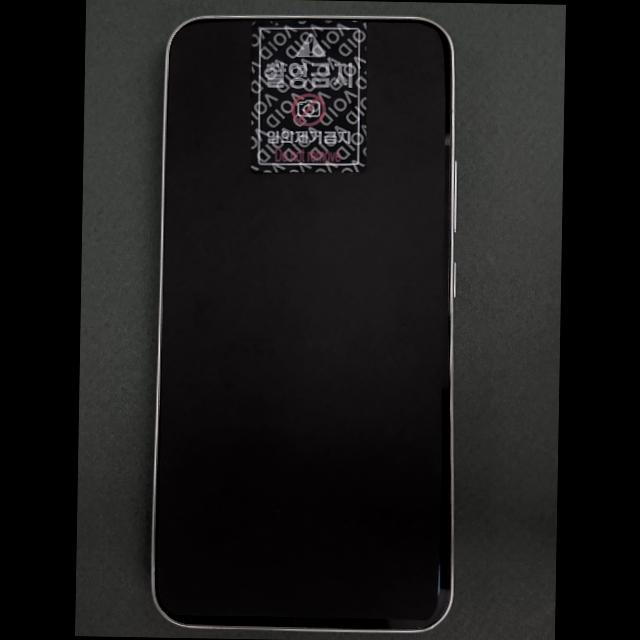phone: (150, 14, 454, 633)
sticker: (250, 19, 367, 173)
